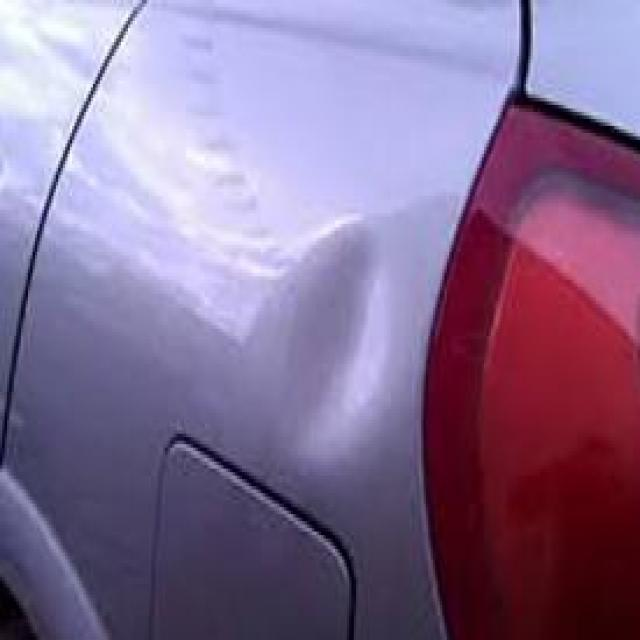dent: (254, 162, 412, 478)
